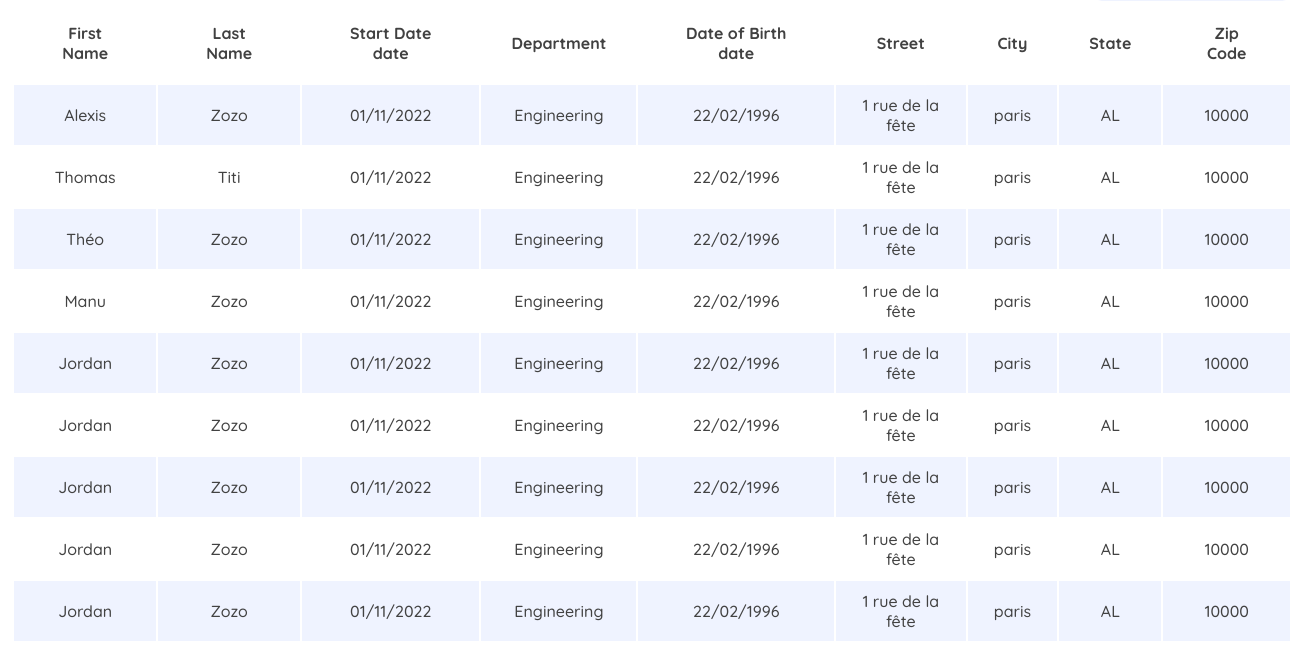
Filter button no date
This screenshot has width=1304, height=654.
Step 1. Click the column heading with test id "thNoDate" showing "First Name" → [85, 43], box [14,3,156,83]
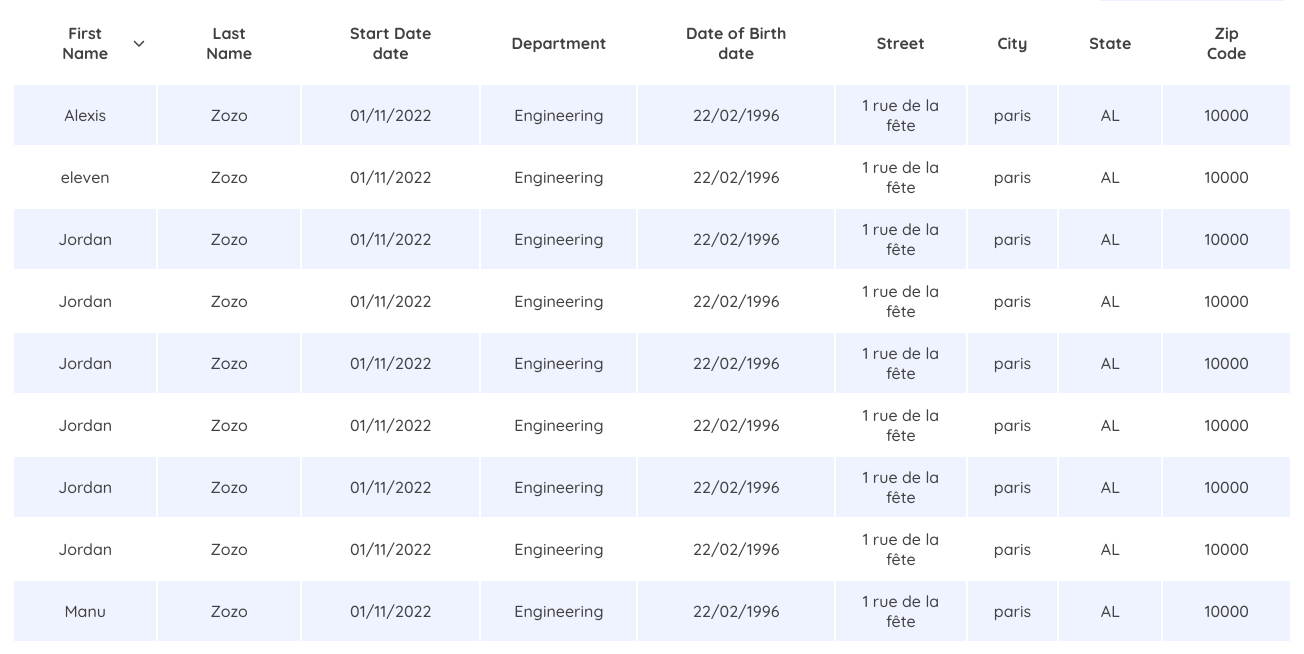
Step 2. Click the column heading with test id "thNoDate" showing "First Name" → [85, 43], box [14,3,156,83]
(page scrolled)
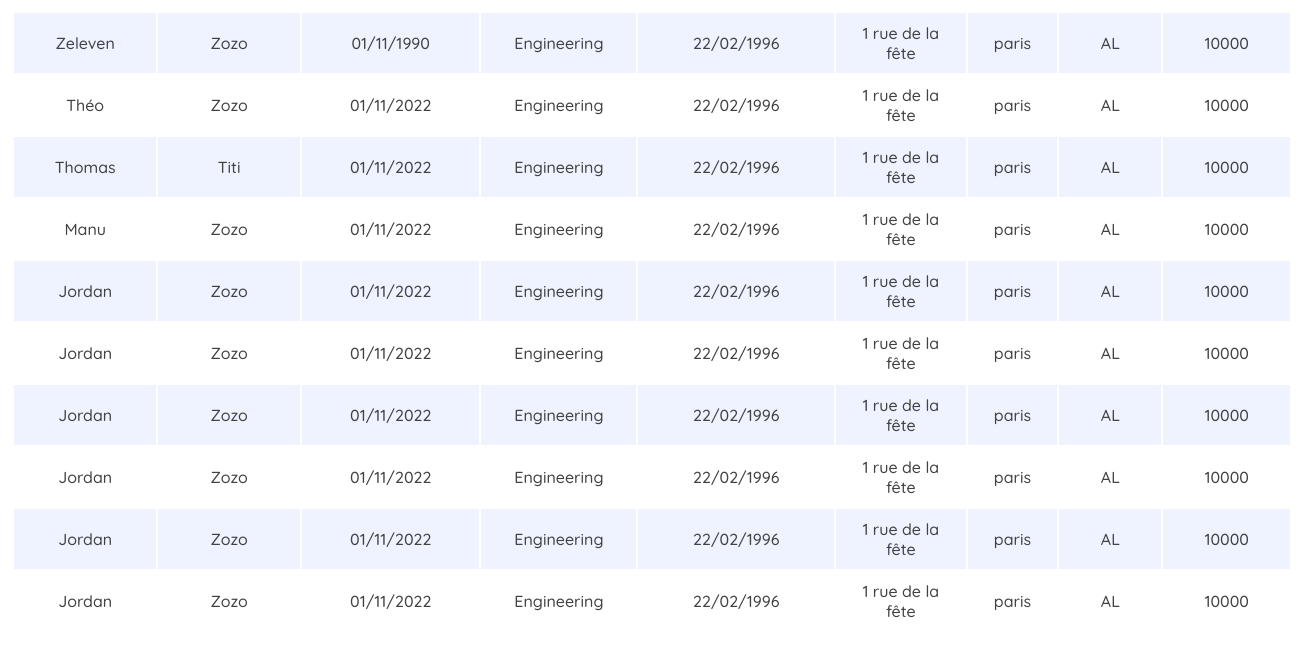
Expected: the element with test id "table" shows "Zeleven", [56,33,115,53]
